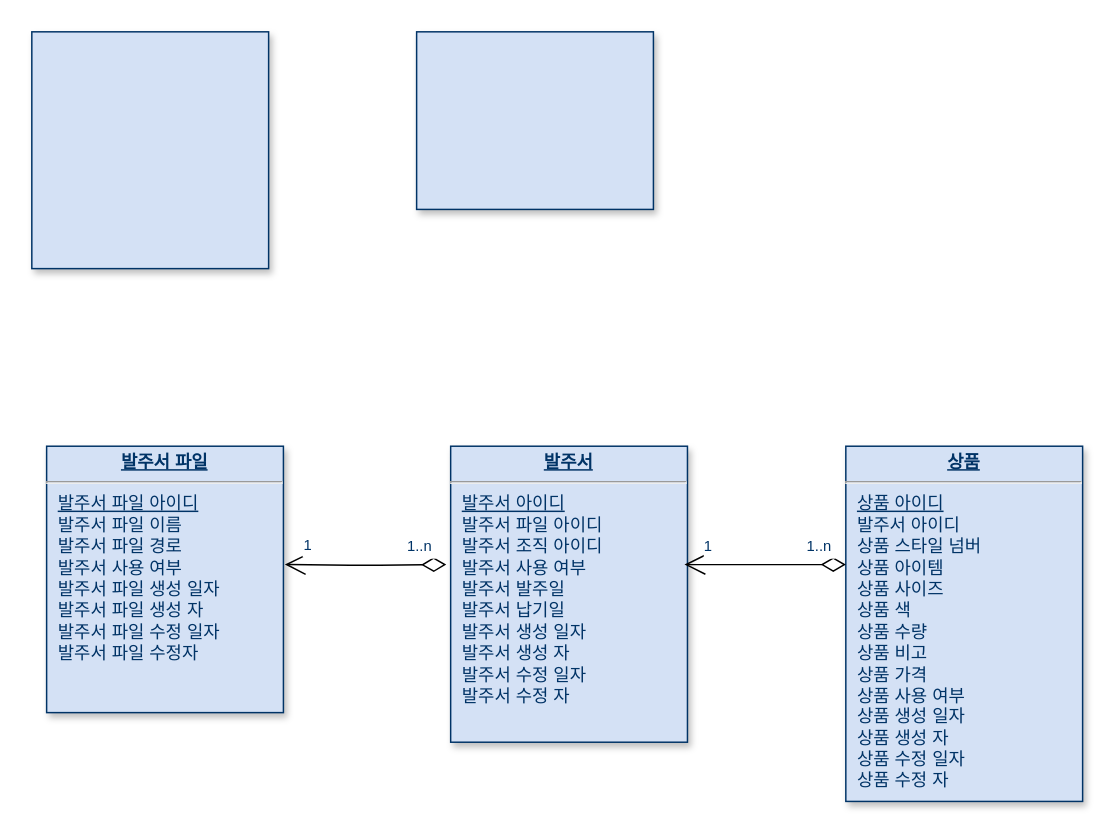
The diagram is 1117 pixels wide and 838 high, and some of its shapes have lost their labels. Here are the shapes that lost their labels. From the top down, the centre of each, then its label:
the point at 535,122: 조직 조직 아이디 조직 이름 조직 주소 조직 번호 조직 팩스 번호
the point at 151,151: 사용자 사용자 아이디 사용자 주소 사용자 번호 사용자 비밀번호 사용자 입사일 사용자 조직 아이디
